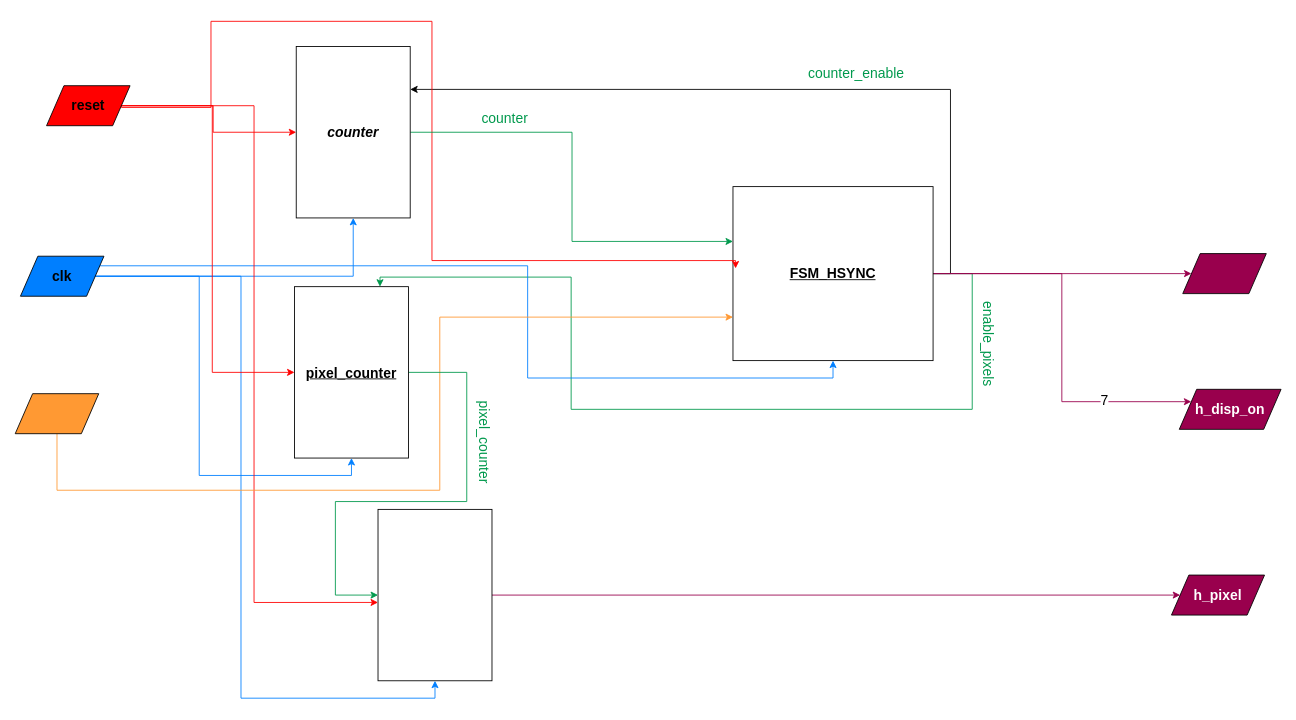
This 1296x720 diagram has some shape labels left out. Here are the shapes that lost their labels. From the top down, the centre of each, then its label:
the point at 1224,273: hsync
the point at 56,413: enable
the point at 434,595: hpixel
